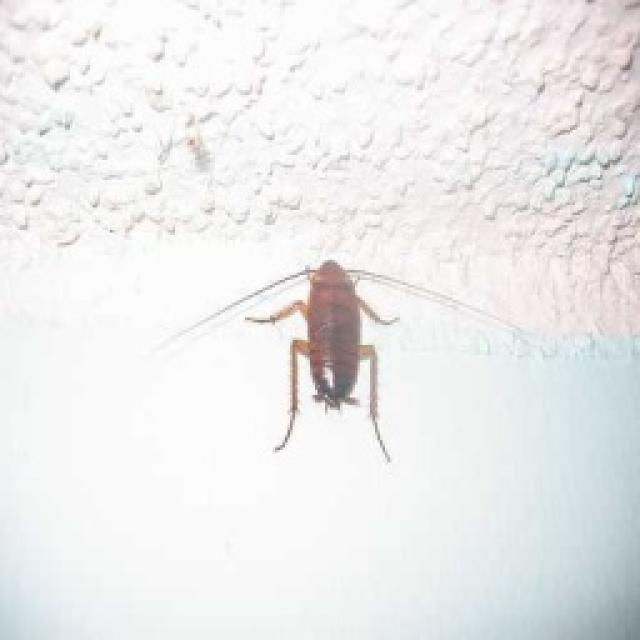cockroach: (242, 257, 403, 466)
